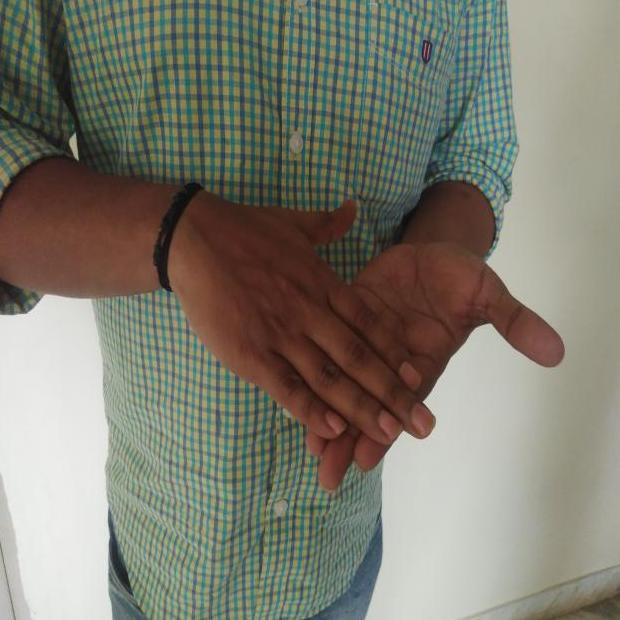G: (152, 168, 575, 498)
